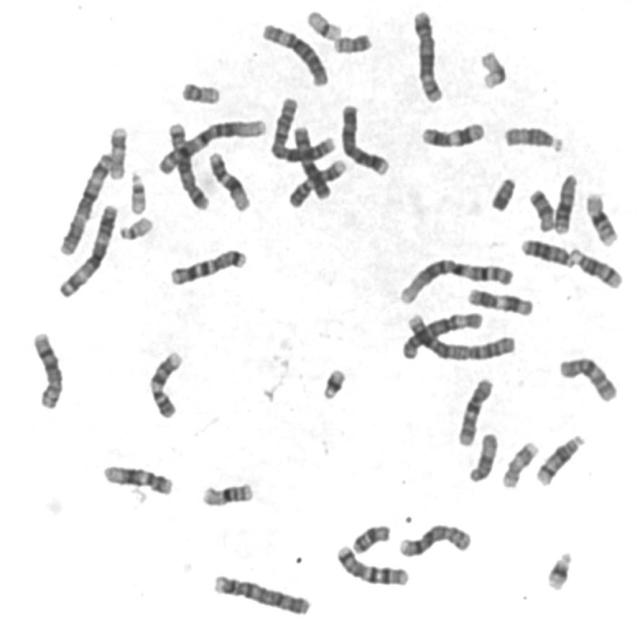A1: (153, 112, 269, 176), (395, 252, 517, 306)
A2: (403, 308, 519, 363), (266, 92, 338, 164)
A3: (56, 147, 116, 257), (55, 198, 120, 299)
B4: (209, 568, 314, 616), (338, 98, 392, 177)
B5: (164, 116, 211, 211), (408, 4, 446, 104)
C10: (556, 350, 622, 405), (454, 372, 496, 448)
C11: (464, 282, 536, 318), (417, 117, 487, 149)
C12: (205, 147, 253, 213), (98, 458, 176, 496)
C6: (258, 17, 331, 88), (399, 307, 487, 361)
C7: (332, 539, 412, 588), (166, 243, 250, 287)
C8: (27, 325, 66, 411), (395, 518, 475, 559)
C9: (285, 153, 350, 209), (145, 345, 187, 420)
D13: (518, 233, 577, 270), (551, 168, 580, 236)
D14: (532, 429, 588, 487), (568, 242, 626, 290)
D15: (500, 120, 568, 154), (464, 427, 501, 485)
E16: (581, 186, 622, 248), (197, 475, 257, 508)
E17: (498, 436, 541, 490), (104, 121, 129, 181)
E18: (348, 518, 393, 556), (525, 184, 557, 232)
F19: (475, 44, 510, 91), (303, 4, 344, 42)
F20: (177, 76, 223, 106), (330, 27, 375, 54)
G21: (542, 544, 576, 592), (318, 361, 349, 402)
G22: (115, 211, 155, 242), (125, 166, 149, 215)
X: (290, 120, 334, 202)
Y: (487, 172, 519, 212)
